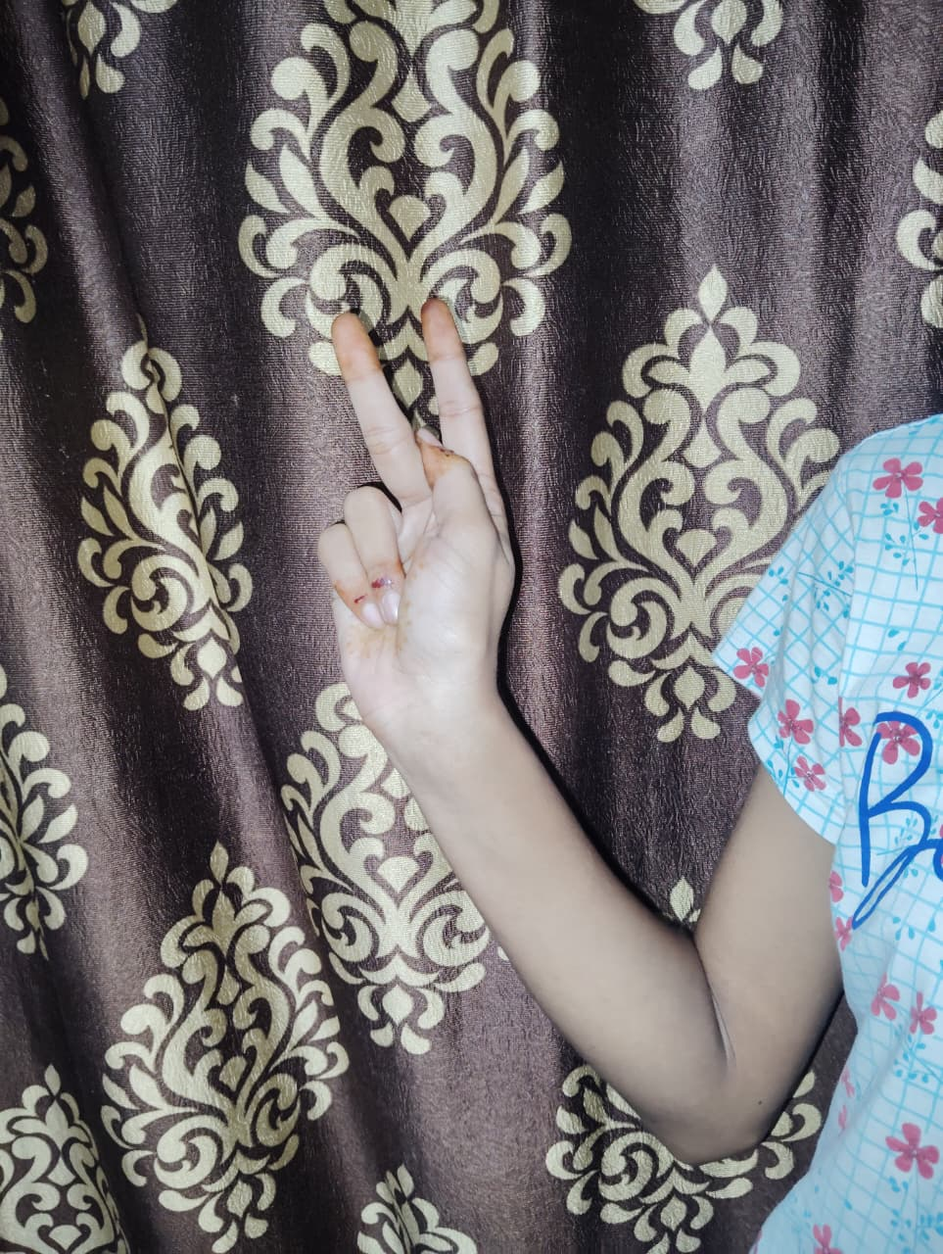K: (317, 298, 516, 727)
